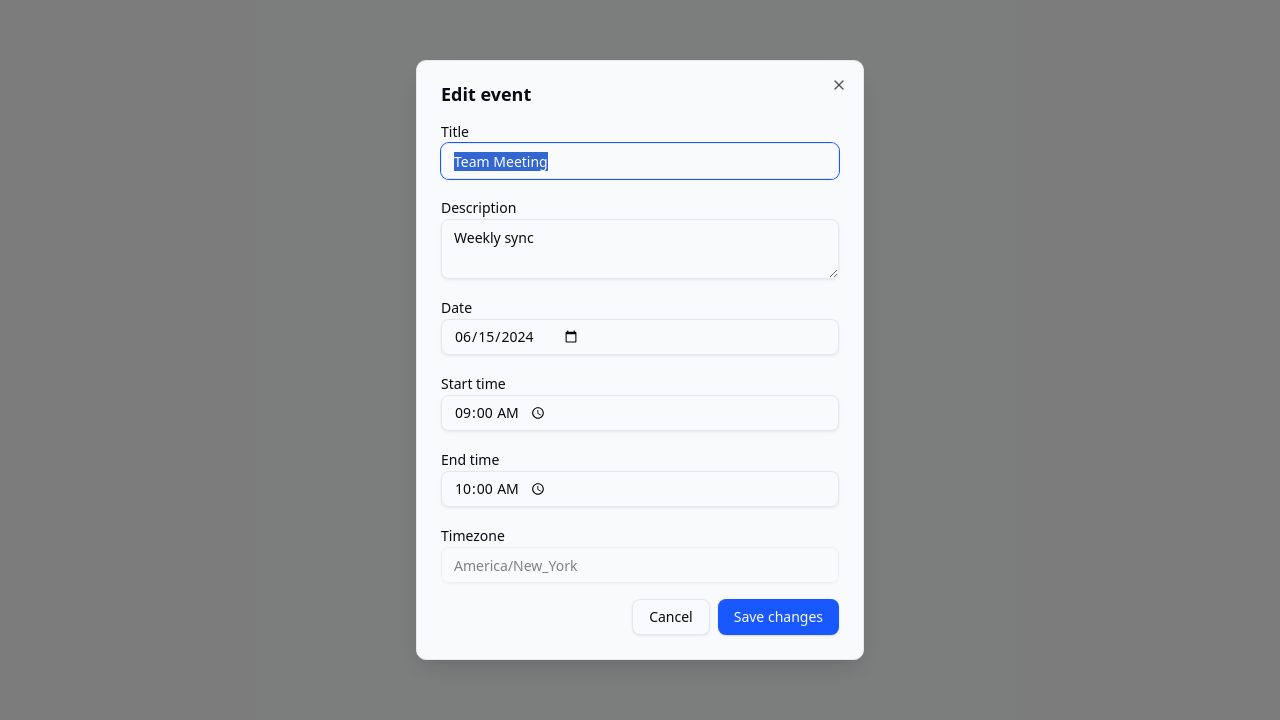
Test: EditEventDialog › recurring event — scope prompt › shows ScopePromptDialog after submit on a recurring event
Click the button with test id "edit-event-submit" at (778, 617), box [718,599,839,635]
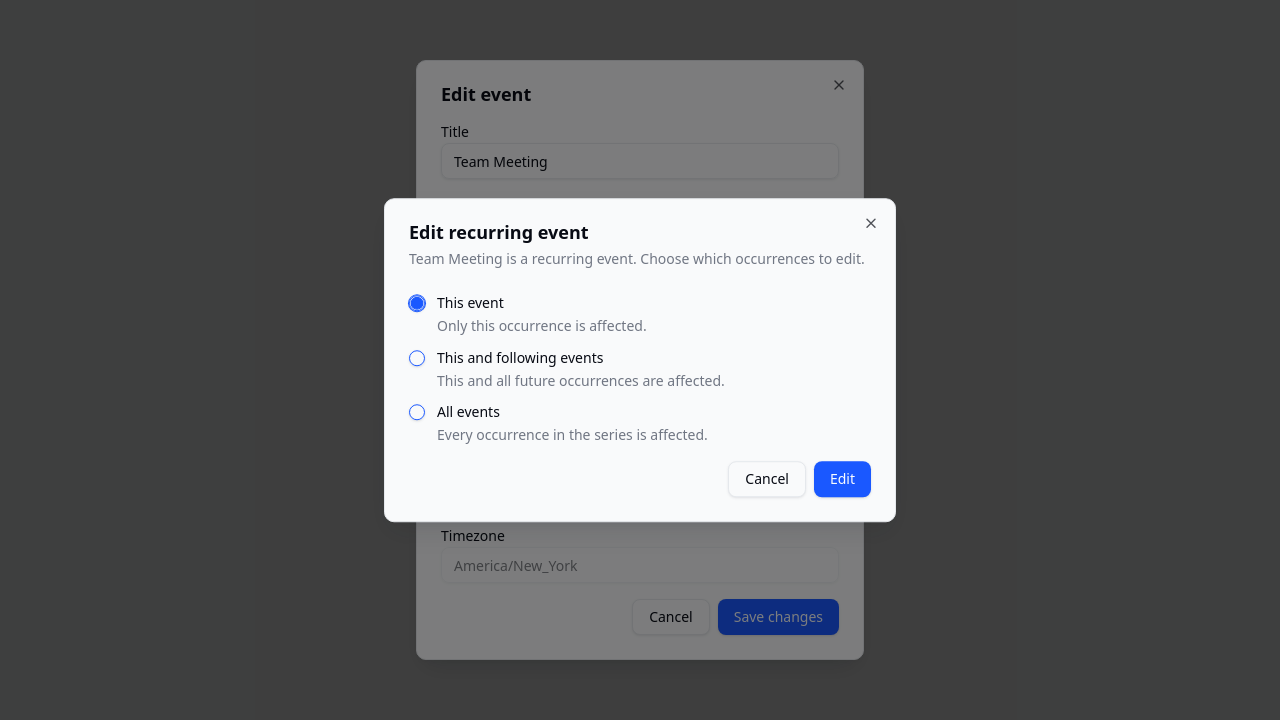
Expected: the heading "Edit recurring event" is shown, [409,220,588,244]
